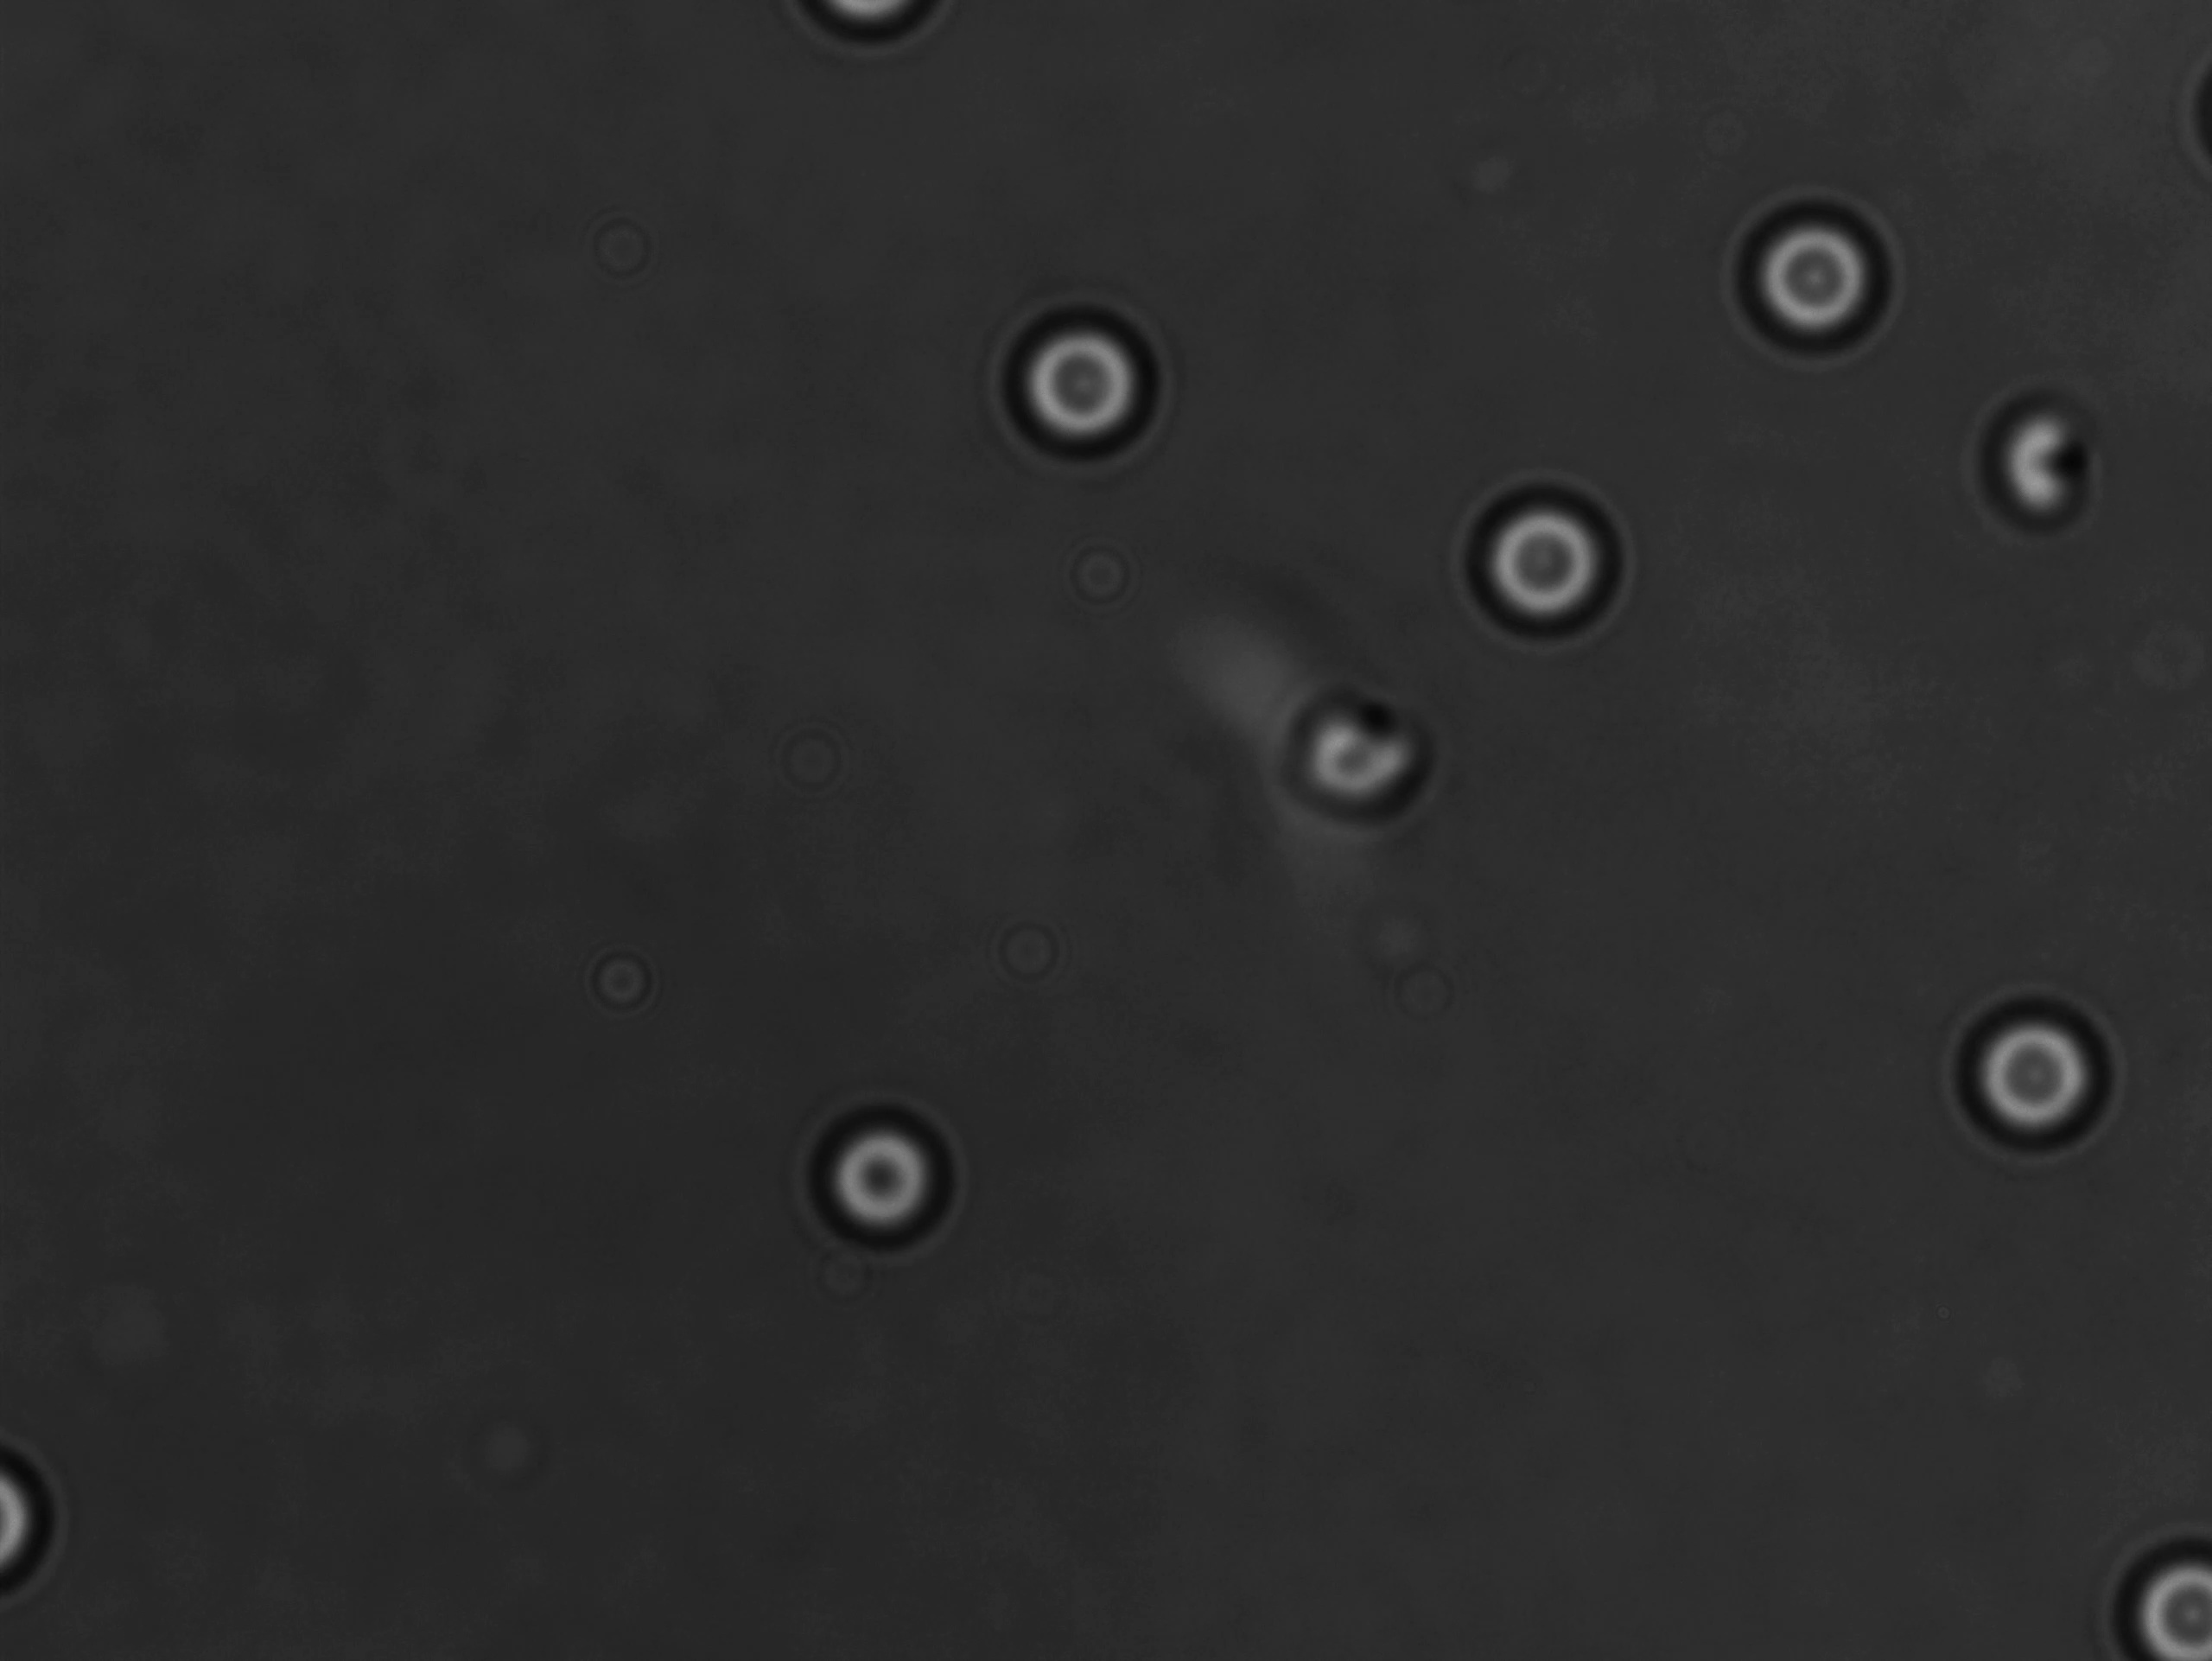depth:40: (1718, 164, 1908, 356), (1943, 977, 2133, 1169), (790, 1096, 998, 1267), (1457, 466, 1638, 646), (984, 297, 1165, 473)
